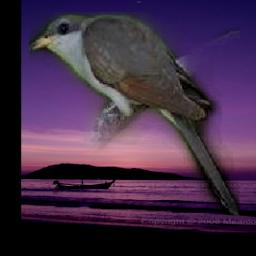Cuckoo: (30, 13, 241, 216)
